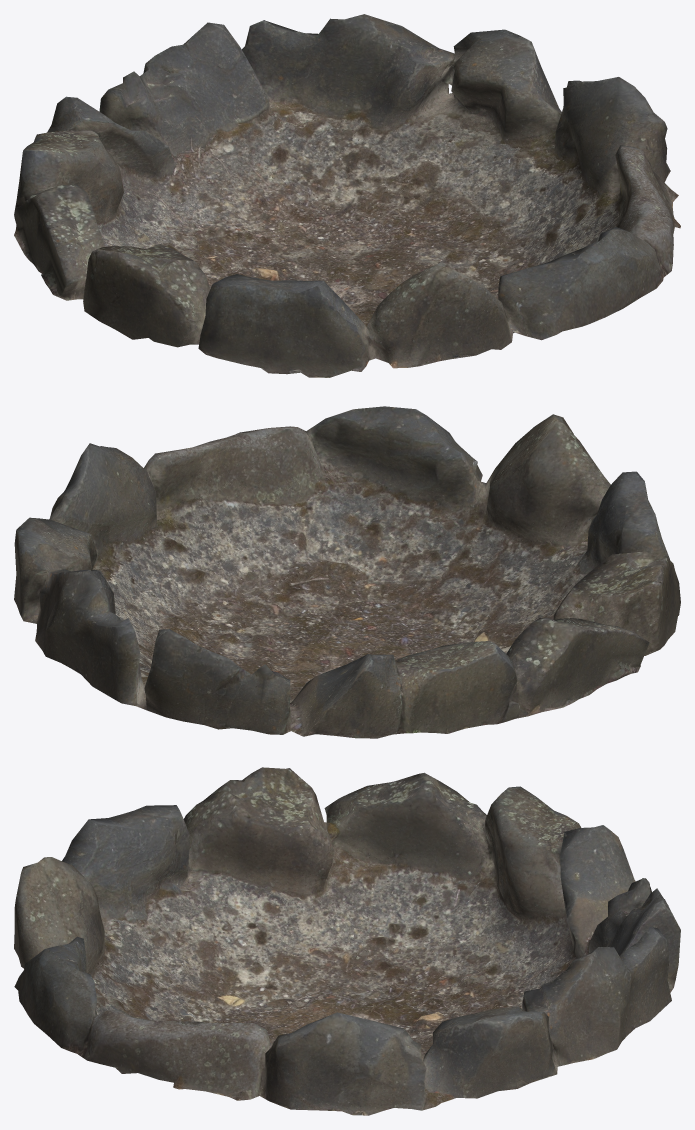
File: stone_fire_pit_1k.gltf
3 renders of one model, top to bottom at view 1: azimuth 30°, elevation 25°; view 2: azimuth 150°, elevation 25°; view 3: azimuth 270°, elevation 25°, orthographic.
Visible parts, largest first — view 1: stone_fire_pit; view 2: stone_fire_pit; view 3: stone_fire_pit.
Boxes of the visible parts, x1,y1,x2,y2 form: stone_fire_pit: (14,14,680,377); stone_fire_pit: (14,406,680,738); stone_fire_pit: (14,767,680,1115).
Bounding box in the file's own units: 1.45 × 0.3883 × 1.43.
Materials: 1 (1 with a texture image).
